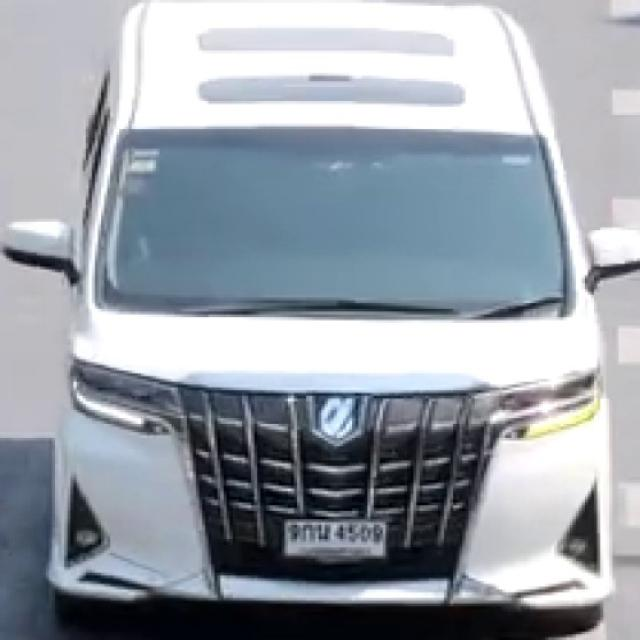plate: (279, 518, 389, 564)
